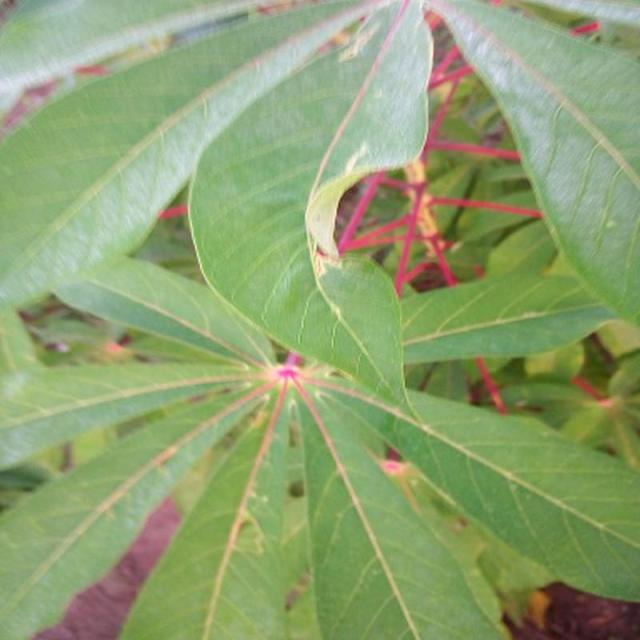cassava leaf: (0, 0, 638, 639), (186, 0, 434, 412), (425, 0, 639, 327)
